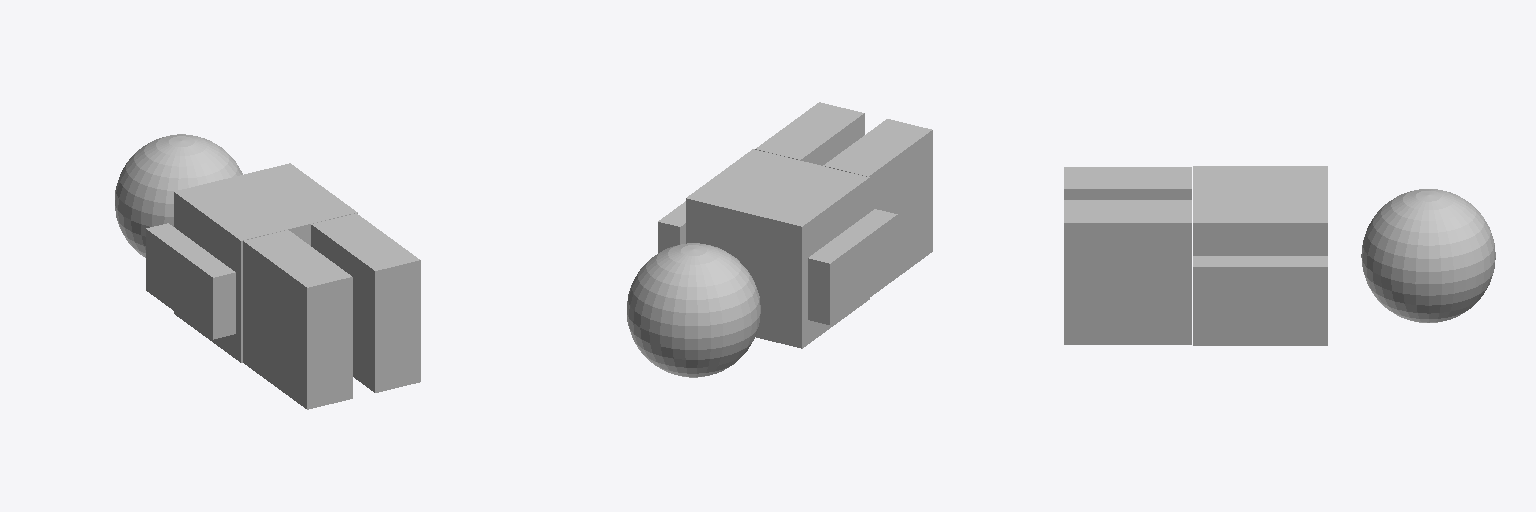
File: rocky_robot_animation_000006.obj
3 renders of one model, left to right at view 1: azimuth 30°, elevation 25°; view 2: azimuth 150°, elevation 25°; view 3: azimuth 270°, elevation 25°, orthographic.
Parts seen in each view (by area): view 1: Cube.001_Cube.005, Cube.002, Cube, Sphere.001, Cube.004; view 2: Cube, Sphere.001, Cube.001_Cube.005, Cube.004, Cube.002, Cube.003; view 3: Cube.002, Cube, Sphere.001, Cube.003, Cube.001_Cube.005.
Boxes of the visible parts, x1,y1,x2,y2 form: Cube.001_Cube.005: [243, 230, 352, 409]; Cube.002: [311, 213, 420, 392]; Cube: [174, 163, 357, 362]; Sphere.001: [115, 134, 242, 257]; Cube.004: [146, 223, 235, 339]; Cube: [686, 149, 869, 348]; Sphere.001: [627, 243, 760, 377]; Cube.001_Cube.005: [823, 119, 932, 296]; Cube.004: [808, 209, 897, 324]; Cube.002: [755, 102, 864, 165]; Cube.003: [658, 201, 685, 252]; Cube.002: [1064, 200, 1191, 344]; Cube: [1193, 166, 1327, 345]; Sphere.001: [1361, 189, 1495, 322]; Cube.003: [1193, 256, 1327, 328]; Cube.001_Cube.005: [1064, 167, 1191, 199].
Bounding box in the file's own units: 0.76 × 0.514 × 1.65.